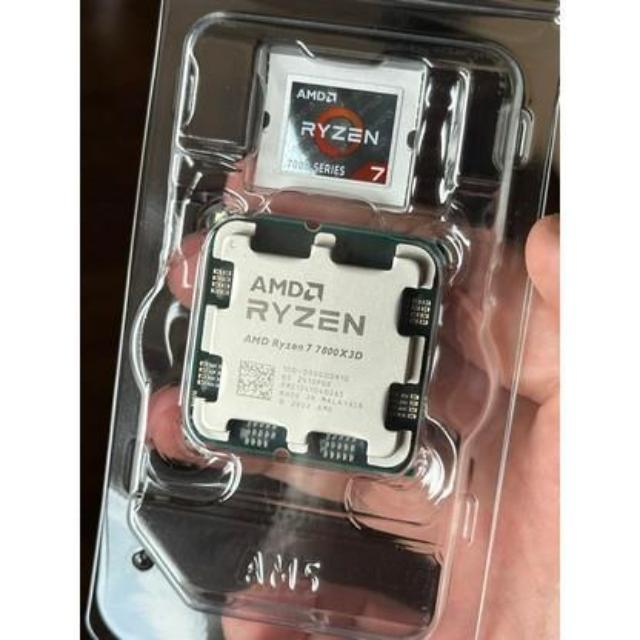CPU: (198, 218, 420, 464)
